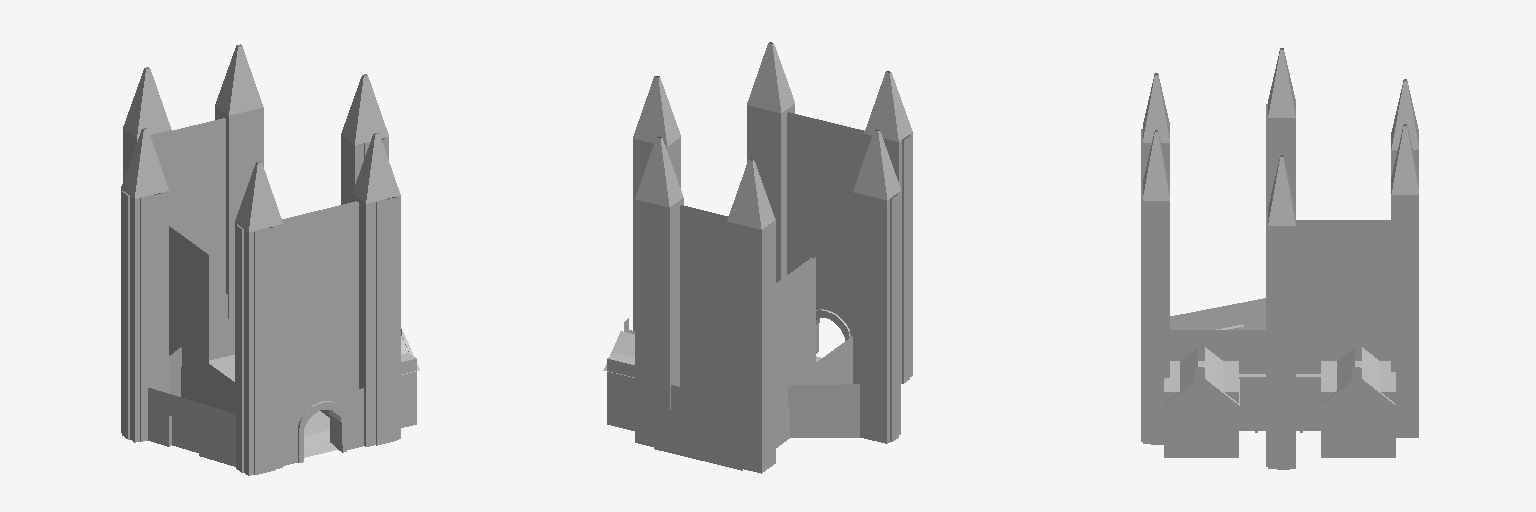
The model's file is Church1.obj.
3 views of the same model, side by side, from view 1: azimuth 30°, elevation 25°; view 2: azimuth 150°, elevation 25°; view 3: azimuth 270°, elevation 25° (orthographic).
Parts seen in each view (by area): view 1: TCom_BuildingsVarious0256_S.001, TCom_BuildingsVarious0256_S.003, Church.001, TCom_BuildingsVarious0256_S.002, TCom_BuildingsVarious0256_S, TCom_BuildingsVarious0087_1_S, TCom_BuildingsBarn0005_S, DestroyedWall, grass1, TCom_BuildingsTudor0082_2_S.001, ChurchHousing1_-col.001, TCom_BuildingsTudor0082_2_S (+2 smaller); view 2: TCom_BuildingsVarious0256_S.002, TCom_BuildingsVarious0256_S.003, TCom_BuildingsVarious0256_S.001, Church.001, TCom_BuildingsVarious0256_S, DestroyedWall, TCom_BuildingsBarn0005_S.001, TCom_BuildingsVarious0090_S.001, ChurchHousing1_-col, TCom_BuildingsVarious0087_1_S, TCom_BuildingsVarious0090_S, TCom_BuildingsTudor0082_2_S.001 (+1 smaller); view 3: TCom_BuildingsVarious0256_S.003, DestroyedWall, TCom_BuildingsVarious0256_S.001, TCom_BuildingsVarious0256_S.002, ChurchHousing1_-col, ChurchHousing1_-col.001, TCom_BuildingsTudor0082_2_S.001, TCom_BuildingsBarn0005_S, TCom_BuildingsUtility0031_S, TCom_BuildingsHouseOld0330_S, TCom_BuildingsHouseOld0330_S.001, TCom_BuildingsTudor0043_2_S (+3 smaller).
Boxes of the visible parts, box(x1,y1,x2,y2) form: TCom_BuildingsVarious0256_S.001: box(235, 133, 400, 475); TCom_BuildingsVarious0256_S.003: box(121, 74, 388, 442); Church.001: box(273, 201, 358, 407); TCom_BuildingsVarious0256_S.002: box(123, 44, 263, 318); TCom_BuildingsVarious0256_S: box(172, 118, 225, 297); TCom_BuildingsVarious0087_1_S: box(283, 369, 363, 465); TCom_BuildingsBarn0005_S: box(148, 388, 235, 466); DestroyedWall: box(169, 226, 208, 364); grass1: box(209, 355, 337, 457); TCom_BuildingsTudor0082_2_S.001: box(169, 339, 234, 405); ChurchHousing1_-col.001: box(320, 353, 416, 427); TCom_BuildingsTudor0082_2_S: box(181, 367, 234, 412); TCom_BuildingsVarious0256_S.002: box(635, 136, 775, 473); TCom_BuildingsVarious0256_S.003: box(633, 76, 900, 443); TCom_BuildingsVarious0256_S.001: box(747, 42, 912, 383); Church.001: box(787, 112, 864, 302); TCom_BuildingsVarious0256_S: box(680, 205, 728, 397); DestroyedWall: box(776, 257, 815, 395); TCom_BuildingsBarn0005_S.001: box(788, 384, 859, 437); TCom_BuildingsVarious0090_S.001: box(654, 410, 742, 470); ChurchHousing1_-col: box(607, 353, 634, 430); TCom_BuildingsVarious0087_1_S: box(816, 278, 852, 353); TCom_BuildingsVarious0090_S: box(671, 385, 726, 423); TCom_BuildingsTudor0082_2_S.001: box(776, 336, 852, 414); TCom_BuildingsVarious0256_S.003: box(1266, 48, 1295, 469); DestroyedWall: box(1296, 220, 1390, 331); TCom_BuildingsVarious0256_S.001: box(1141, 73, 1169, 444); TCom_BuildingsVarious0256_S.002: box(1391, 79, 1418, 437); ChurchHousing1_-col: box(1321, 361, 1395, 457); ChurchHousing1_-col.001: box(1164, 361, 1238, 457); TCom_BuildingsTudor0082_2_S.001: box(1170, 330, 1390, 352); TCom_BuildingsBarn0005_S: box(1170, 298, 1265, 329); TCom_BuildingsUtility0031_S: box(1239, 390, 1320, 430); TCom_BuildingsHouseOld0330_S: box(1322, 367, 1395, 450); TCom_BuildingsHouseOld0330_S.001: box(1165, 367, 1238, 450); TCom_BuildingsTudor0043_2_S: box(1170, 353, 1390, 366).
Bounding box in the file's own units: 19.48 × 22.09 × 18.21.